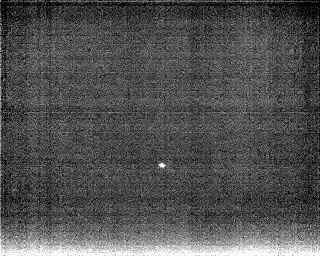AIRPLANE: (157, 159, 167, 171)
